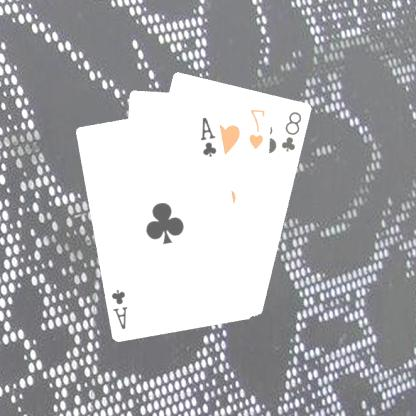7H: (248, 106, 268, 150)
8C: (281, 108, 306, 153)
AC: (200, 114, 220, 158), (111, 286, 131, 330)
